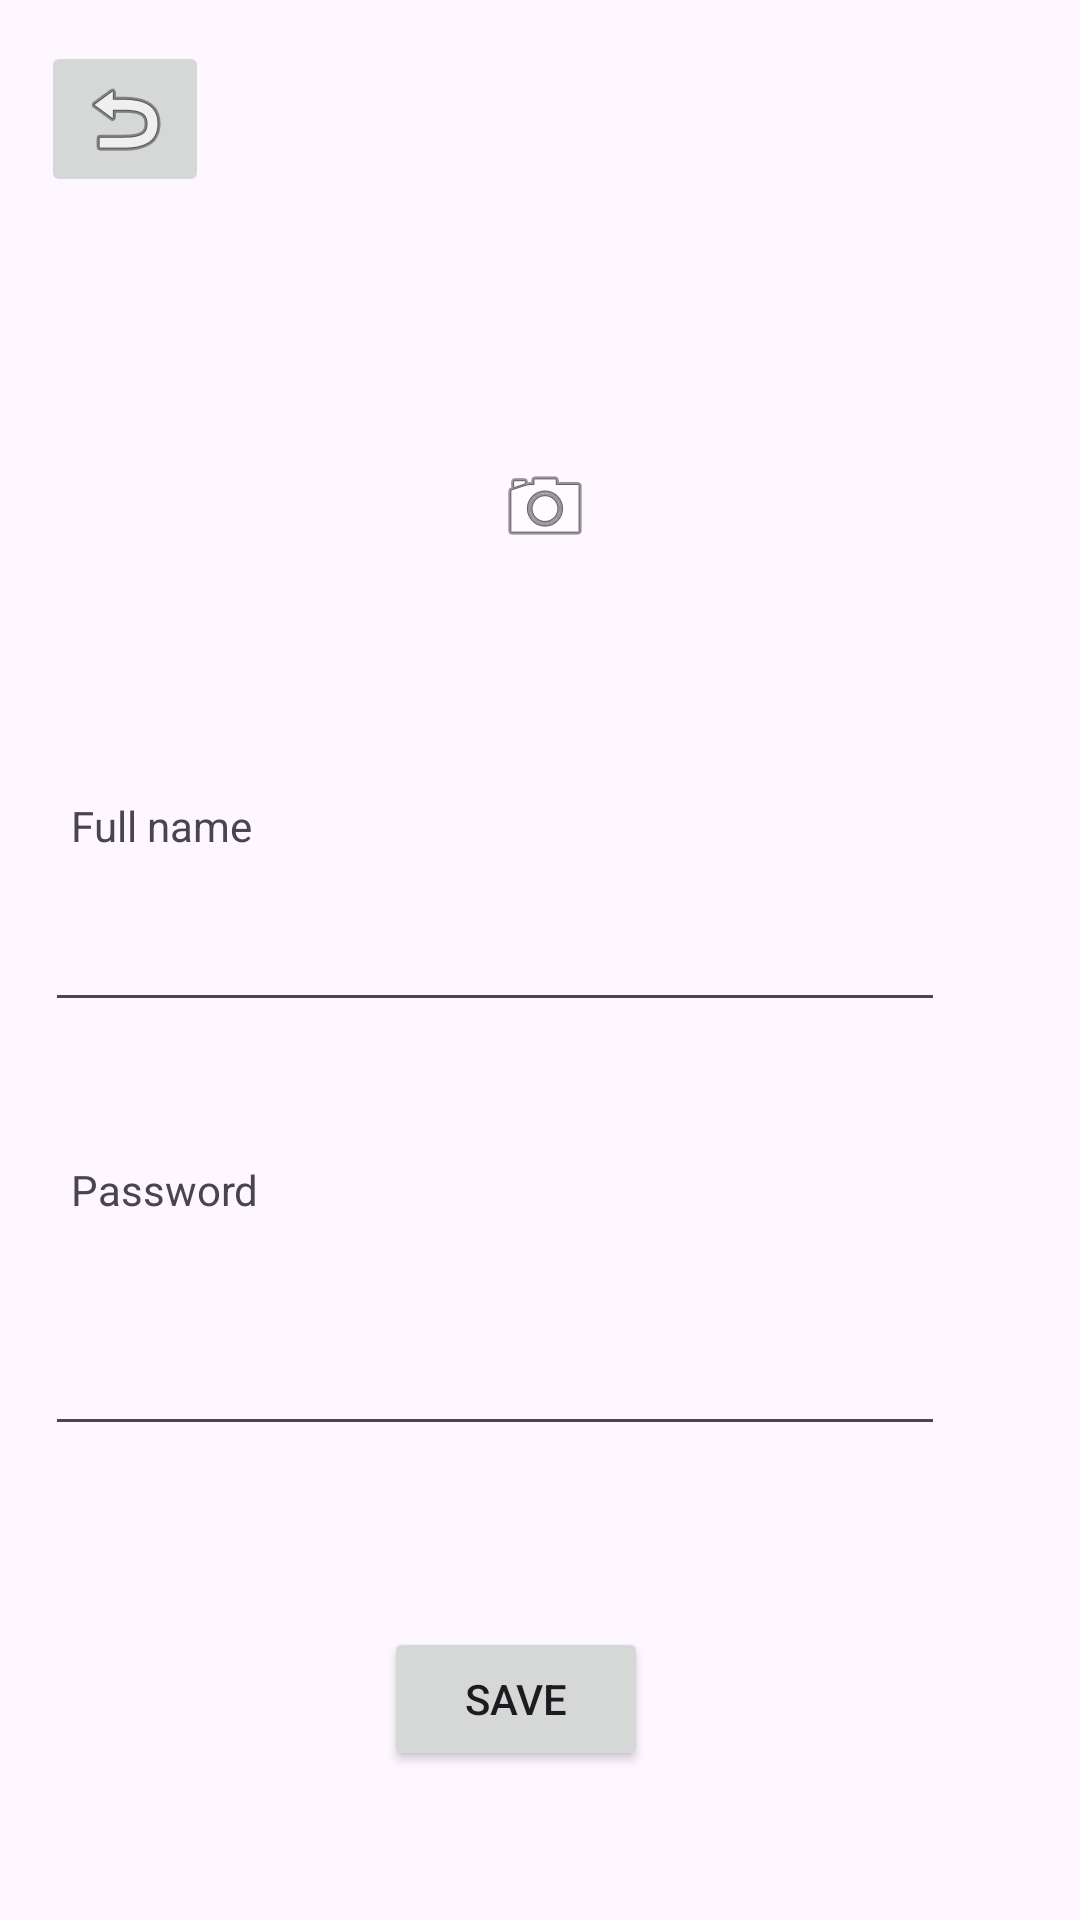

Icon click points for this 1080×1920 phone screenshot, format (x=x, y=y):
camera: (x=545, y=505)
revert: (x=125, y=119)
